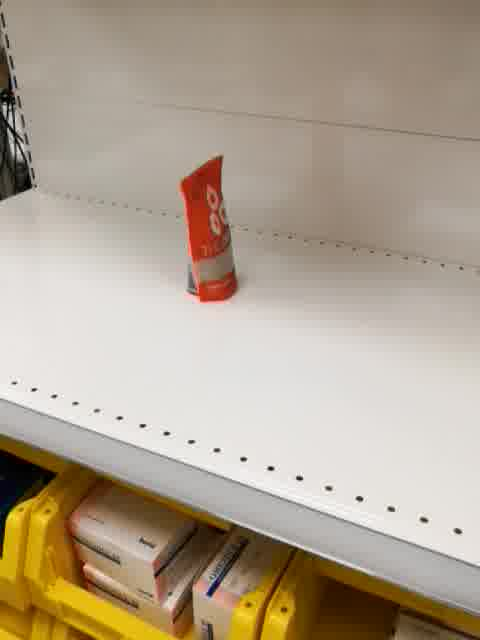whitechia: (175, 150, 239, 304)
